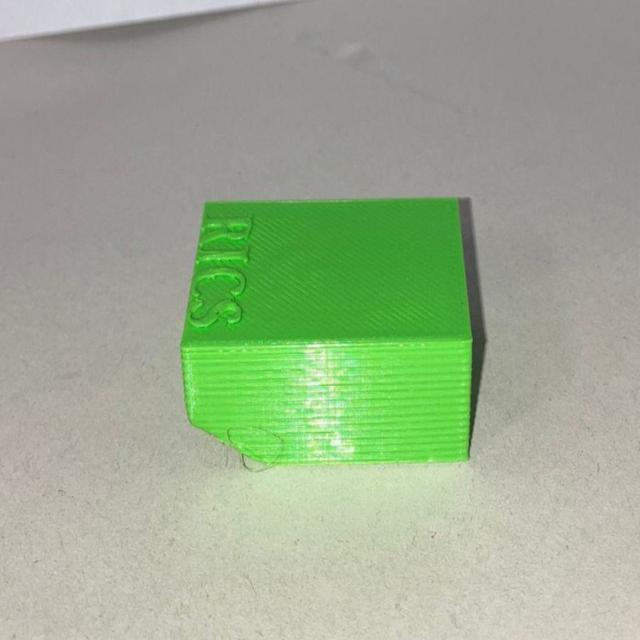warping: (189, 410, 275, 467)
